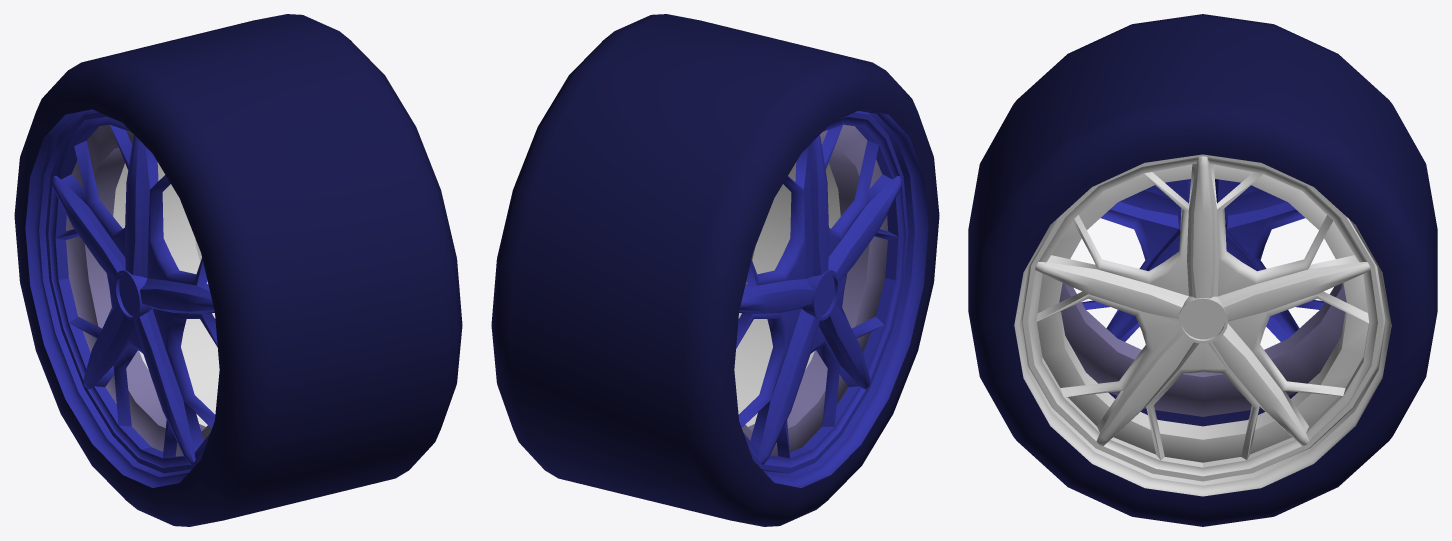
The model's file is Wheel01.fbx.
3 views of the same model, side by side, from view 1: azimuth 30°, elevation 25°; view 2: azimuth 150°, elevation 25°; view 3: azimuth 270°, elevation 25° (orthographic). The views are drawn at different scales.
Visible parts, largest first — view 1: Wheel_Low; view 2: Wheel_Low; view 3: Wheel_Low.
Part boxes in pixels (left/top/right/bottom): Wheel_Low: left=14, top=14, right=462, bottom=526; Wheel_Low: left=491, top=14, right=939, bottom=526; Wheel_Low: left=968, top=14, right=1437, bottom=526.
Size of the model in its own units: 37.99 by 68.51 by 68.51.
